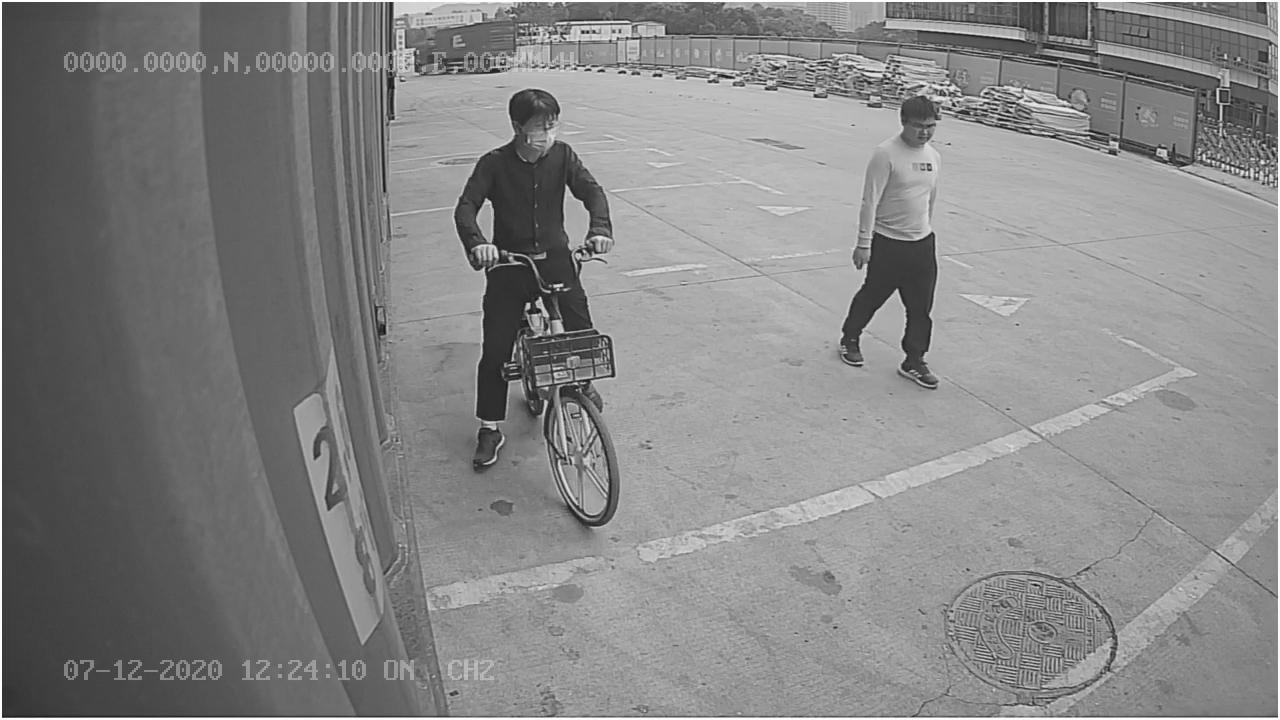person: (822, 91, 957, 397)
